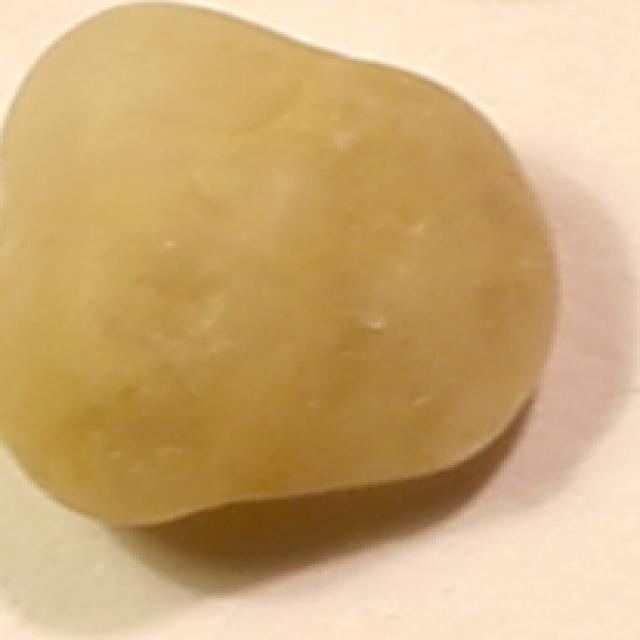stone: (0, 0, 549, 533)
